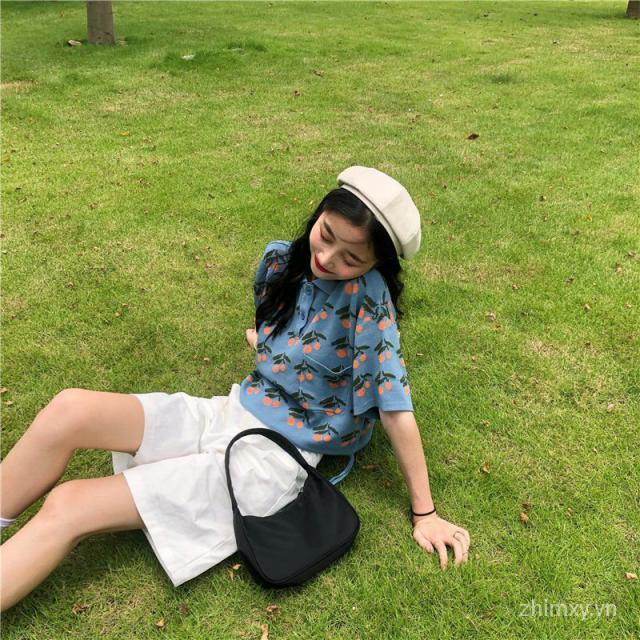Shirt: (238, 235, 416, 453)
